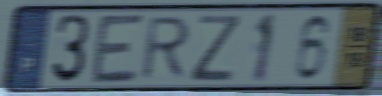1: (253, 11, 278, 85)
3: (50, 13, 92, 86)
6: (295, 12, 331, 82)
E: (89, 11, 148, 87)
R: (137, 14, 194, 84)
Z: (188, 13, 244, 84)
